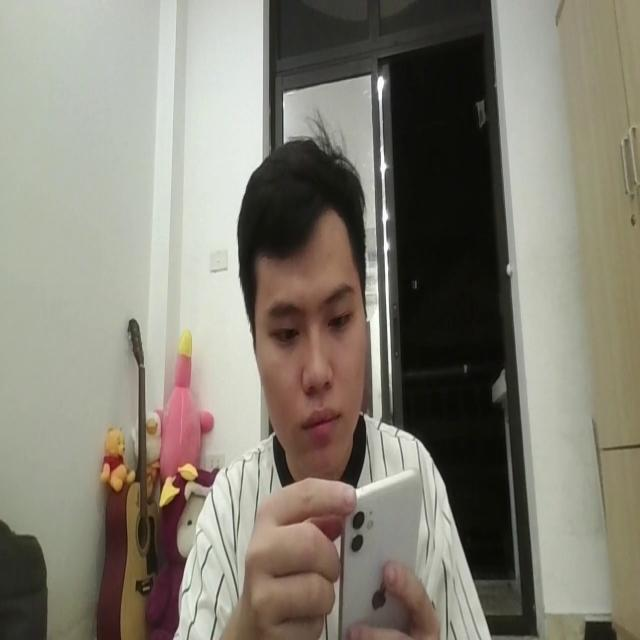phone: (338, 468, 422, 640)
student: (170, 139, 490, 640)
